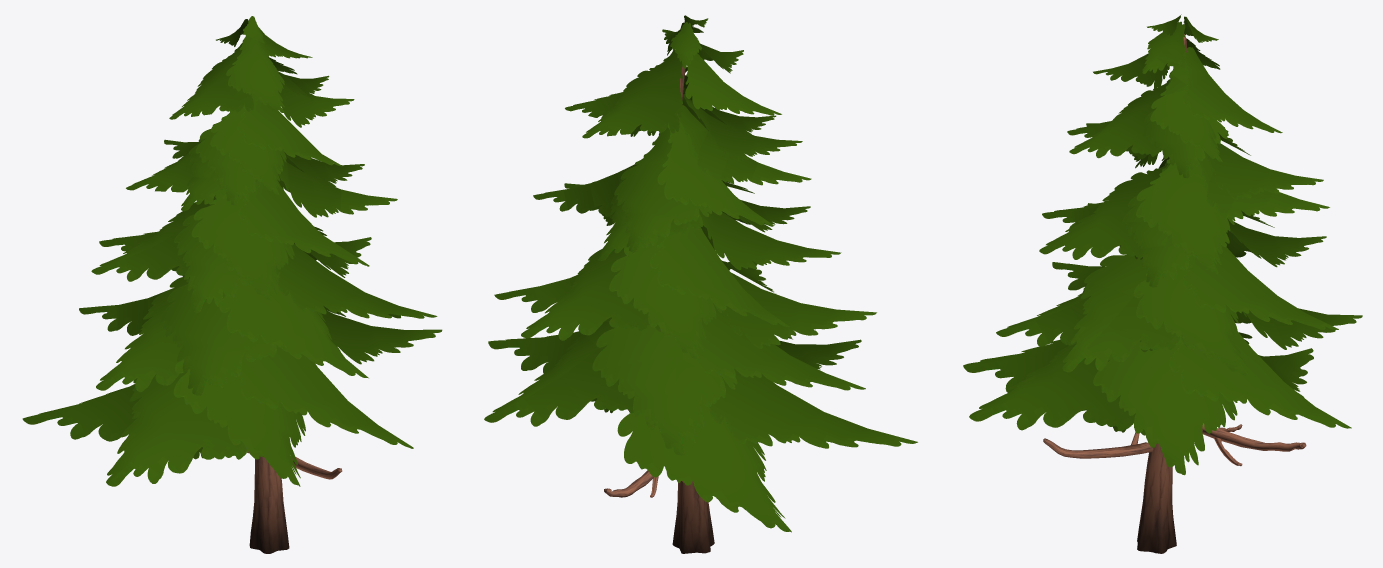
File: n_pine_2.glb
The picture shows the model from 3 angles, left to right: view 1: azimuth 30°, elevation 25°; view 2: azimuth 150°, elevation 25°; view 3: azimuth 270°, elevation 25°; orthographic projection. The views are drawn at different scales.
Visible parts, largest first — view 1: Pine_2; view 2: Pine_2; view 3: Pine_2.
Part boxes in pixels (x1,y1,x2,y2): Pine_2: [22, 16, 442, 553]; Pine_2: [484, 15, 917, 553]; Pine_2: [963, 14, 1362, 553].
Bounding box in the file's own units: 5.73 × 7.38 × 5.22.
2 materials, 2 textured.
